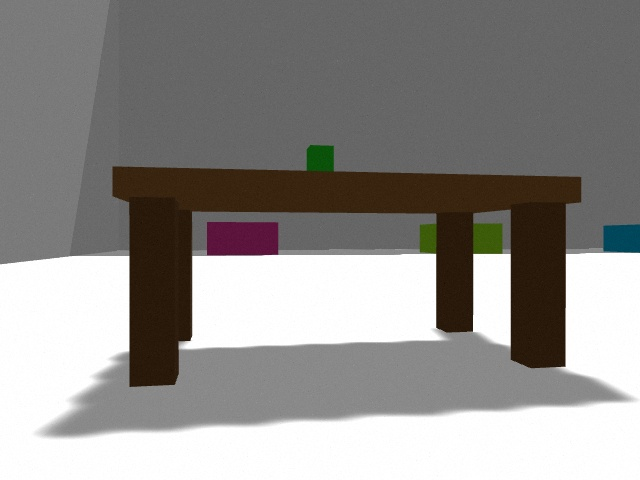blue_drop_zone: (603, 224, 640, 253)
green_cube: (307, 145, 334, 171)
green_drop_zone: (474, 223, 503, 254), (420, 224, 436, 253)
red_drop_zone: (207, 222, 278, 255)
